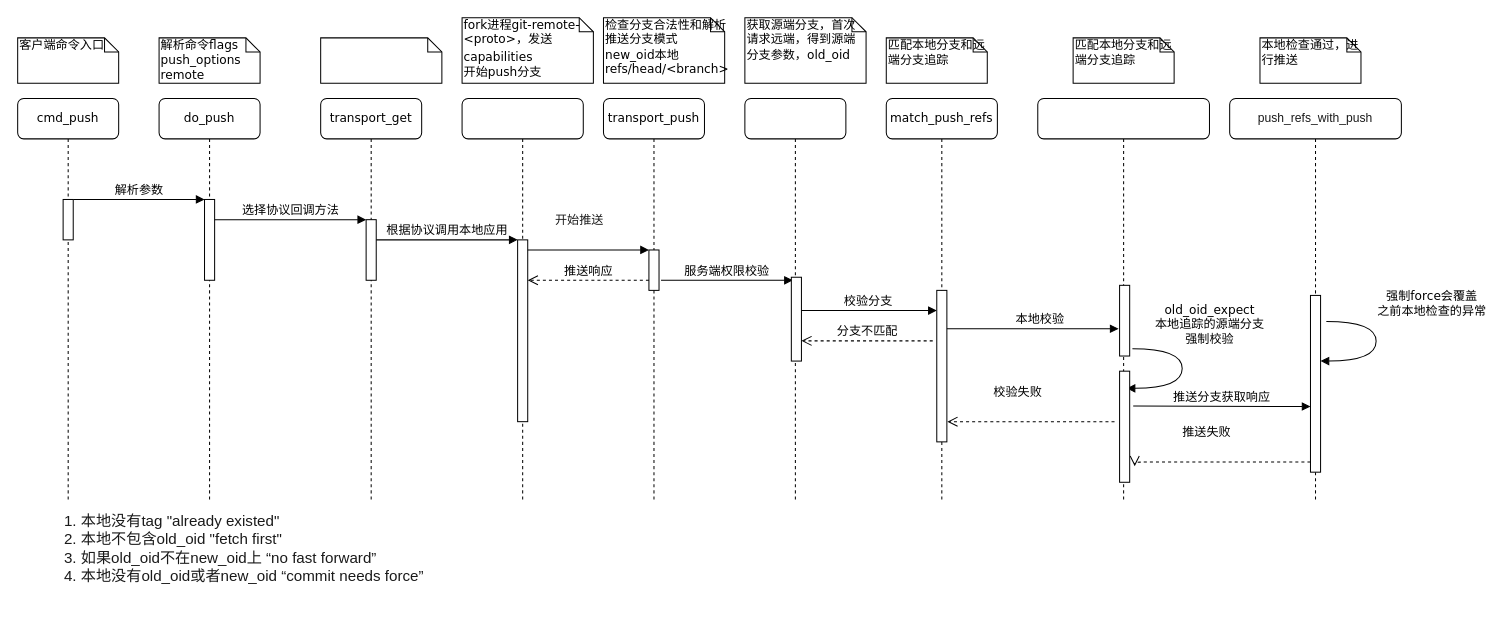
The diagram is 1504 pixels wide and 617 high, and some of its shapes have lost their labels. The box of each missing label's shape, as (x1, y1, x2, y2) in pixels:
get_refs_list: (744, 97, 846, 502)
push_with_options: (461, 97, 583, 502)
set_ref_status_for_push: (1037, 97, 1209, 502)
根据remote选择客户端方法，http(s)/ssh/git/file: (320, 37, 442, 83)
